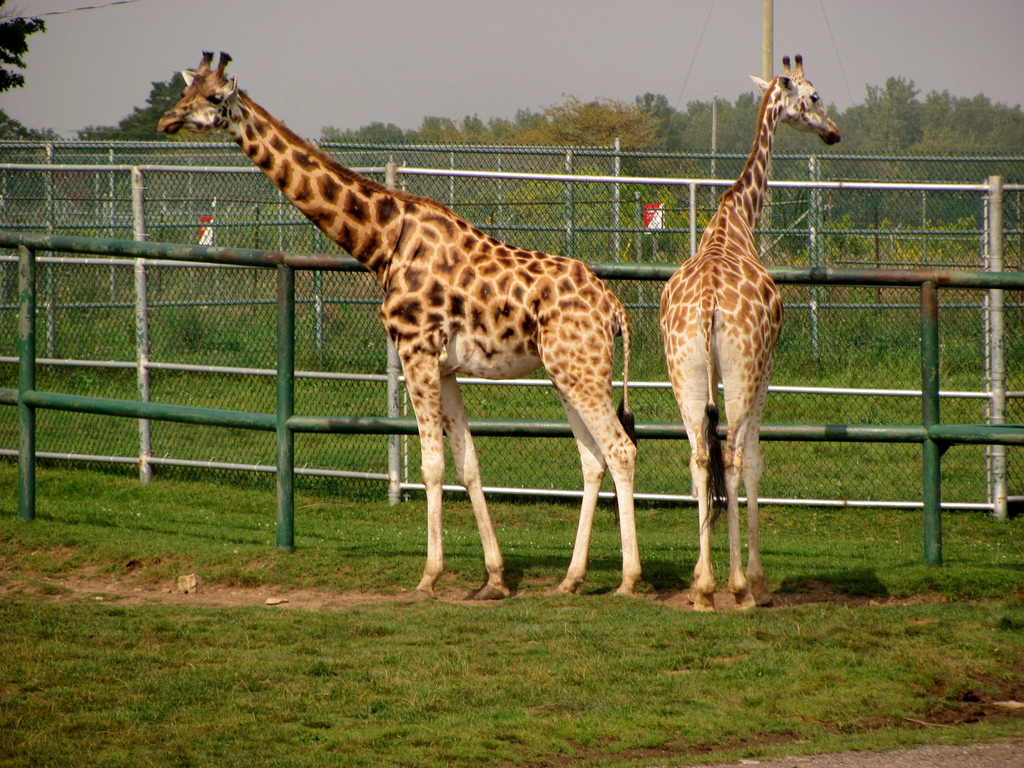giraffe: (132, 52, 661, 566), (671, 40, 849, 576)
